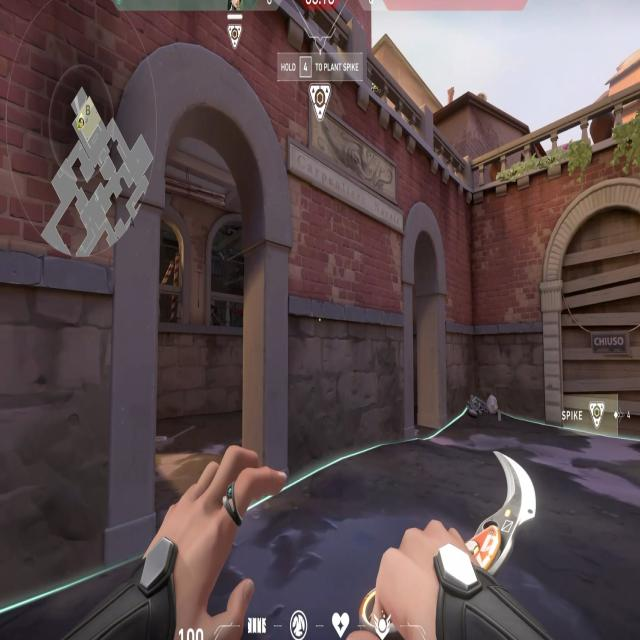B_Boathouse: (107, 40, 288, 568), (400, 201, 464, 445)
